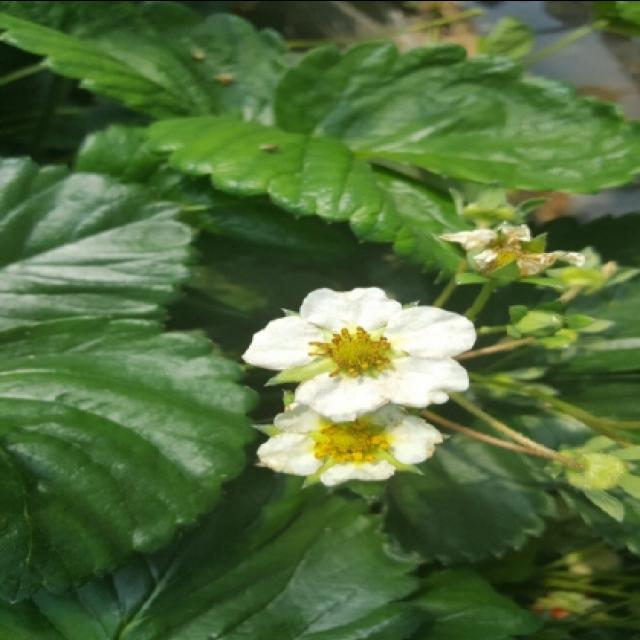Blossom Blight: (304, 318, 396, 382), (309, 414, 394, 468)
